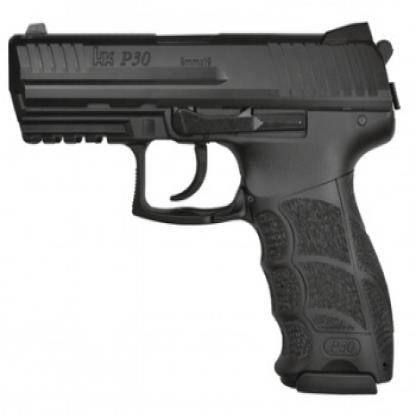Guns: (3, 16, 400, 407)
